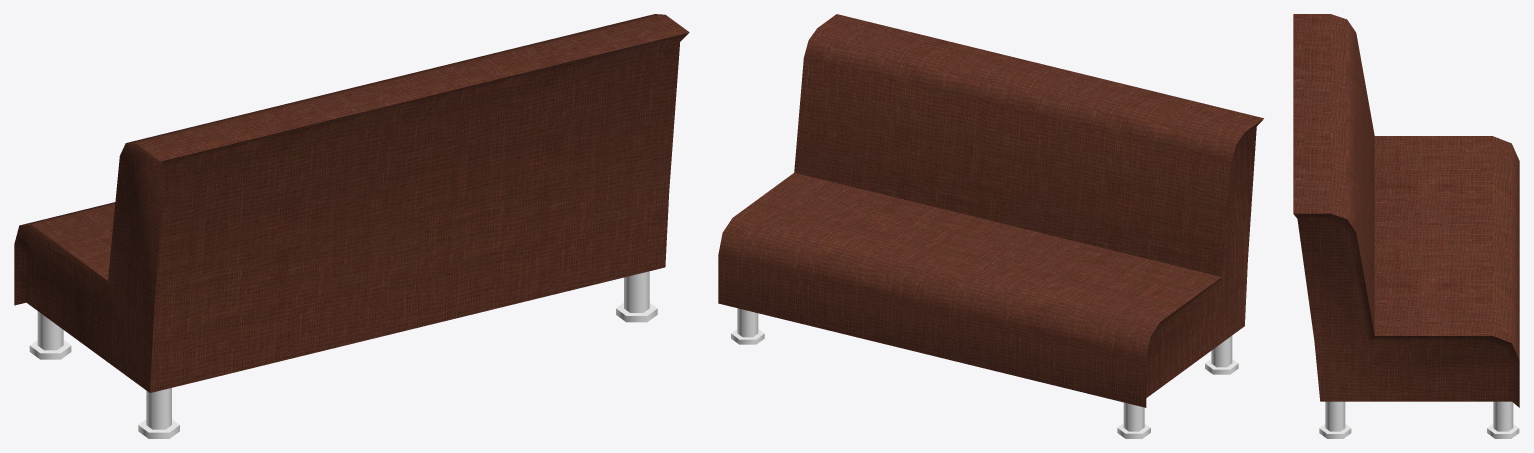
File: Armchair_13.glb
3 renders of one model, left to right at view 1: azimuth 30°, elevation 25°; view 2: azimuth 150°, elevation 25°; view 3: azimuth 270°, elevation 25°, orthographic. The views are drawn at different scales.
Parts seen in each view (by area): view 1: Armchair_13; view 2: Armchair_13; view 3: Armchair_13.
Part boxes in pixels (bbox=[...]): Armchair_13: bbox=[14, 14, 689, 438]; Armchair_13: bbox=[718, 14, 1263, 438]; Armchair_13: bbox=[1293, 14, 1519, 438].
Bounding box in the file's own units: 2.2 × 1.17 × 1.05.
2 materials, 1 textured.
